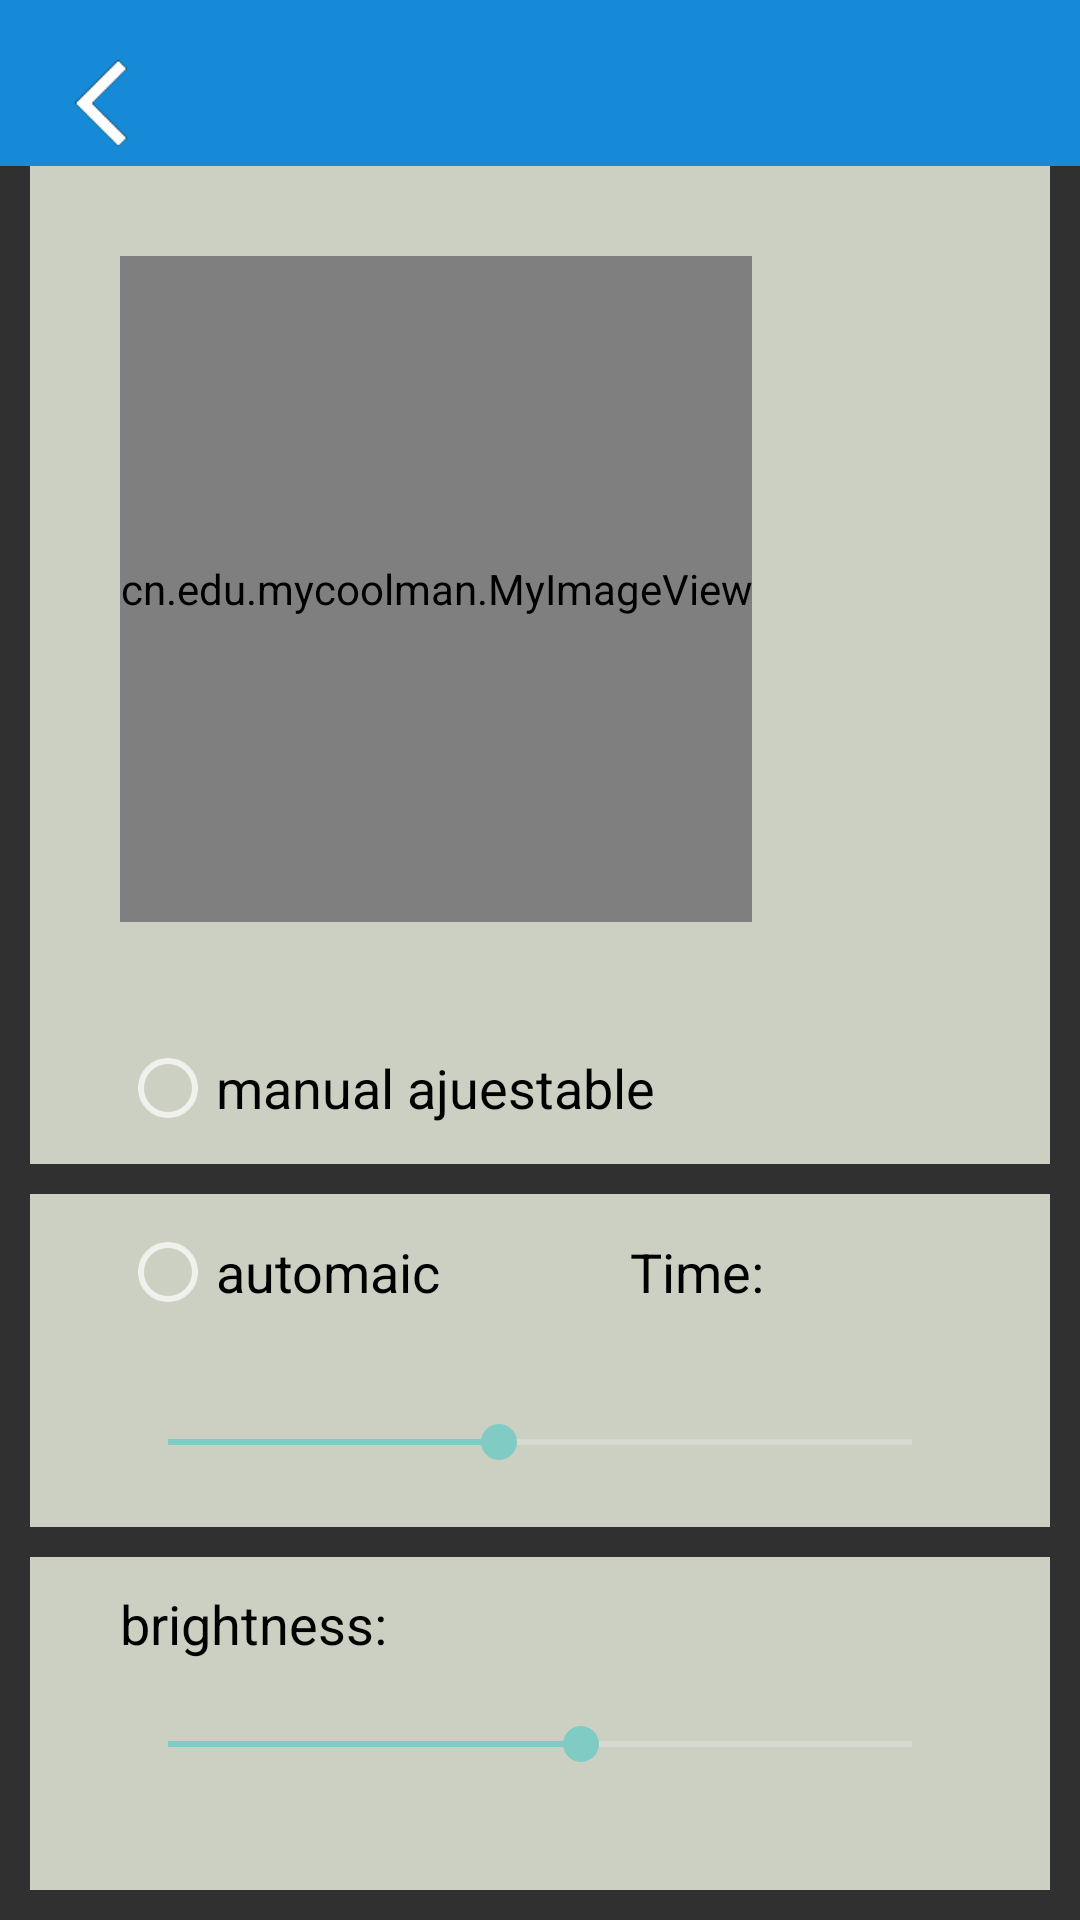

Locate icon controls on the screen. Image size 1080x1920, boxes as (x1, y1, x2, y2).
back: (75, 60, 127, 147)
